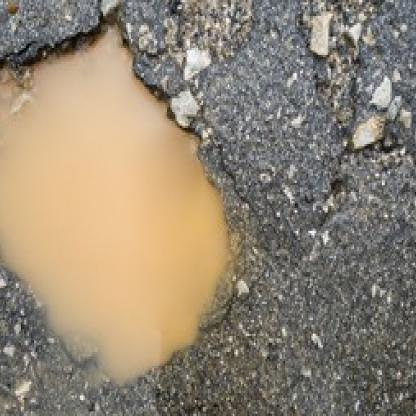pothole: (0, 11, 243, 391)
